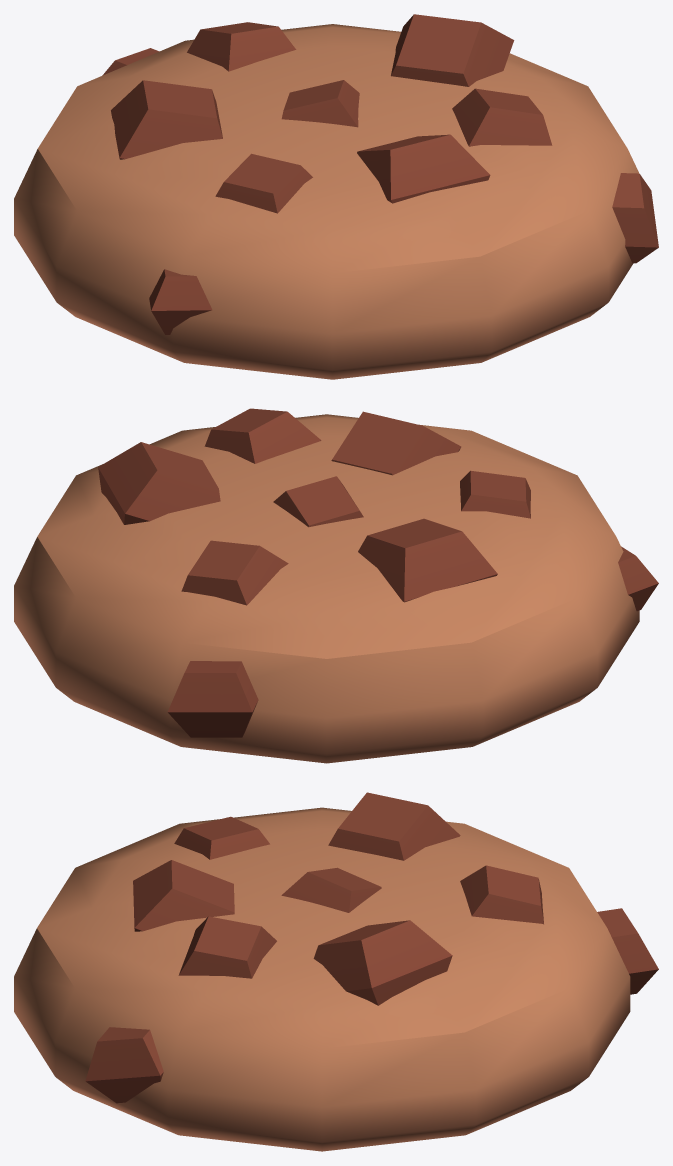
Rendered from cookie.obj.
3 renders of one model, top to bottom at view 1: azimuth 30°, elevation 25°; view 2: azimuth 150°, elevation 25°; view 3: azimuth 270°, elevation 25°, orthographic. The views are drawn at different scales.
Parts seen in each view (by area): view 1: cookie; view 2: cookie; view 3: cookie.
Part boxes in pixels (x1,y1,x2,y2): cookie: (14,14,658,379); cookie: (14,408,658,763); cookie: (14,792,658,1151).
Bounding box in the file's own units: 0.511 × 0.1554 × 0.5348.
Materials: 1 (1 with a texture image).
